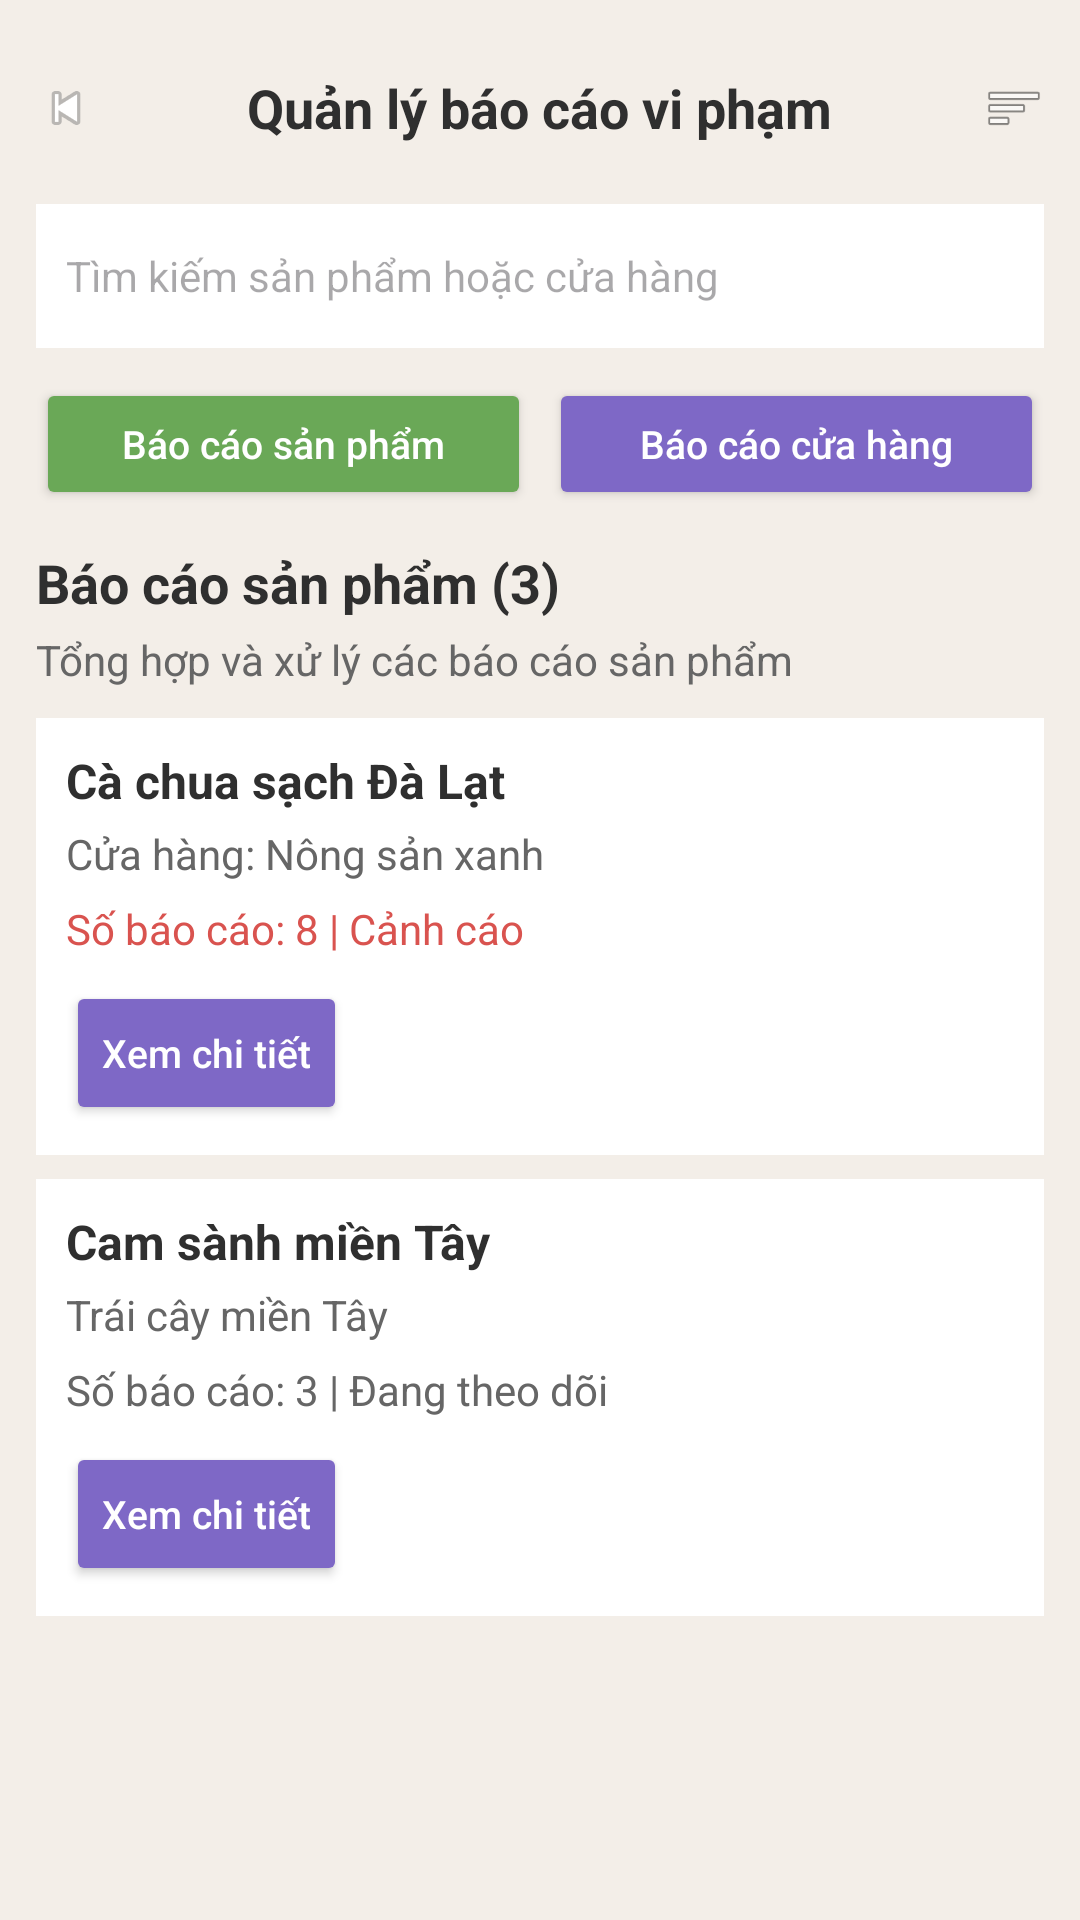

Locate icon controls on the screen. Image size 1080px×1920px, boxes as (x1, y1, x2, y2).
previous: (51, 91, 81, 125)
sort by size: (988, 91, 1040, 125)
